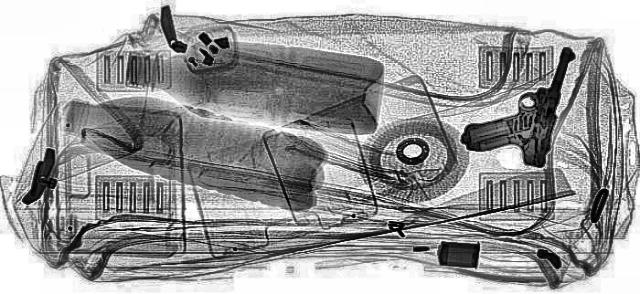Gun: (454, 42, 578, 166)
